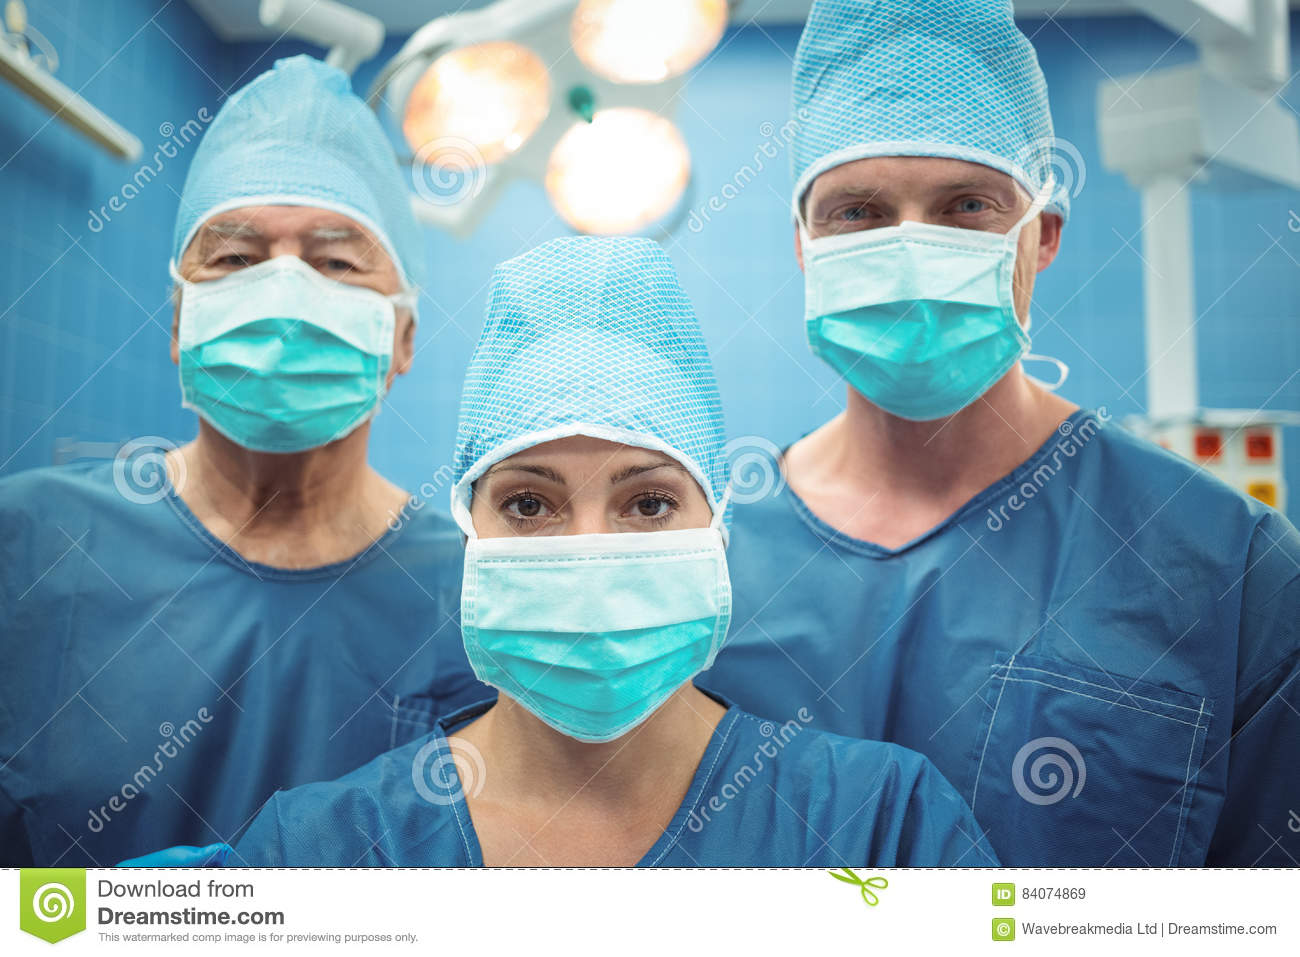mask: (451, 535, 729, 723), (797, 227, 1033, 410), (161, 282, 403, 458)
